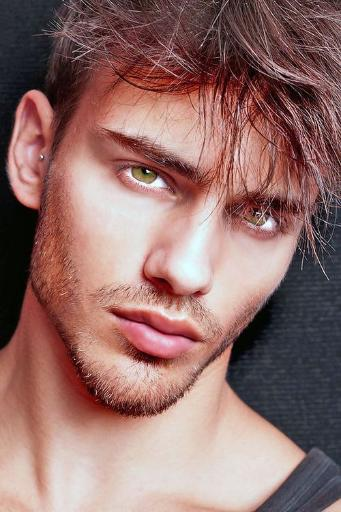left_eye: (233, 204, 283, 235)
left_lip_corner: (192, 332, 207, 351)
right_eye: (118, 159, 175, 196)
right_lip_corner: (104, 303, 128, 329)
